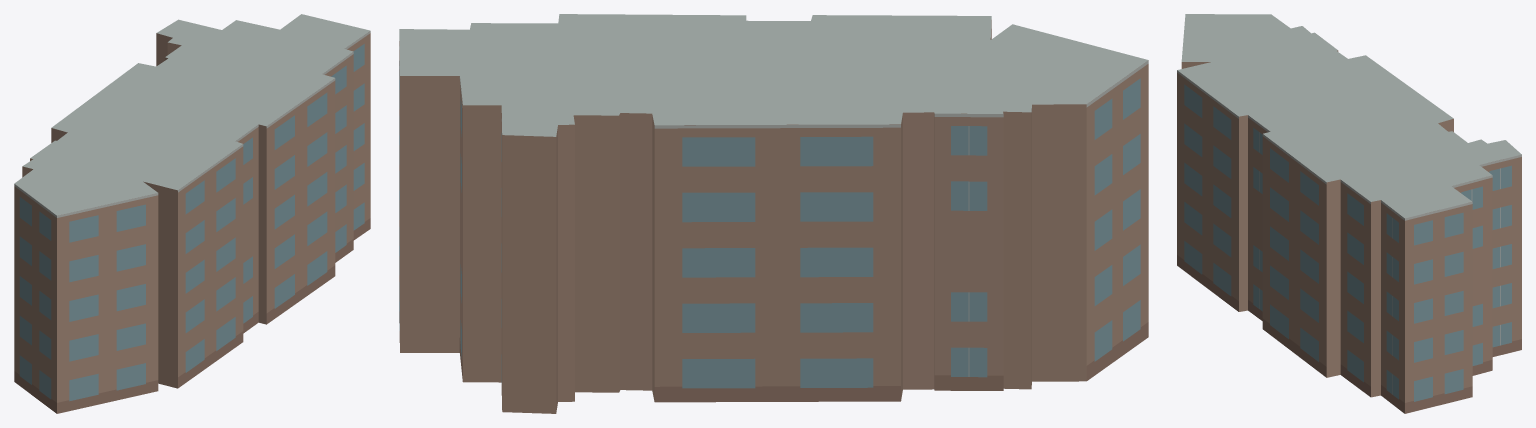
Rendered from survey-upis-32973569.glb.
3 renders of one model, left to right at view 1: azimuth 30°, elevation 25°; view 2: azimuth 150°, elevation 25°; view 3: azimuth 270°, elevation 25°, orthographic. The views are drawn at different scales.
Visible parts, largest first — view 1: survey-upis-32973569.tmp; view 2: survey-upis-32973569.tmp; view 3: survey-upis-32973569.tmp.
Boxes of the visible parts, x1=… form: survey-upis-32973569.tmp: x1=14, y1=14, x2=370, y2=413; survey-upis-32973569.tmp: x1=399, y1=14, x2=1148, y2=413; survey-upis-32973569.tmp: x1=1177, y1=14, x2=1521, y2=413.
Bounding box in the file's own units: 45.57 × 20.31 × 32.48.
